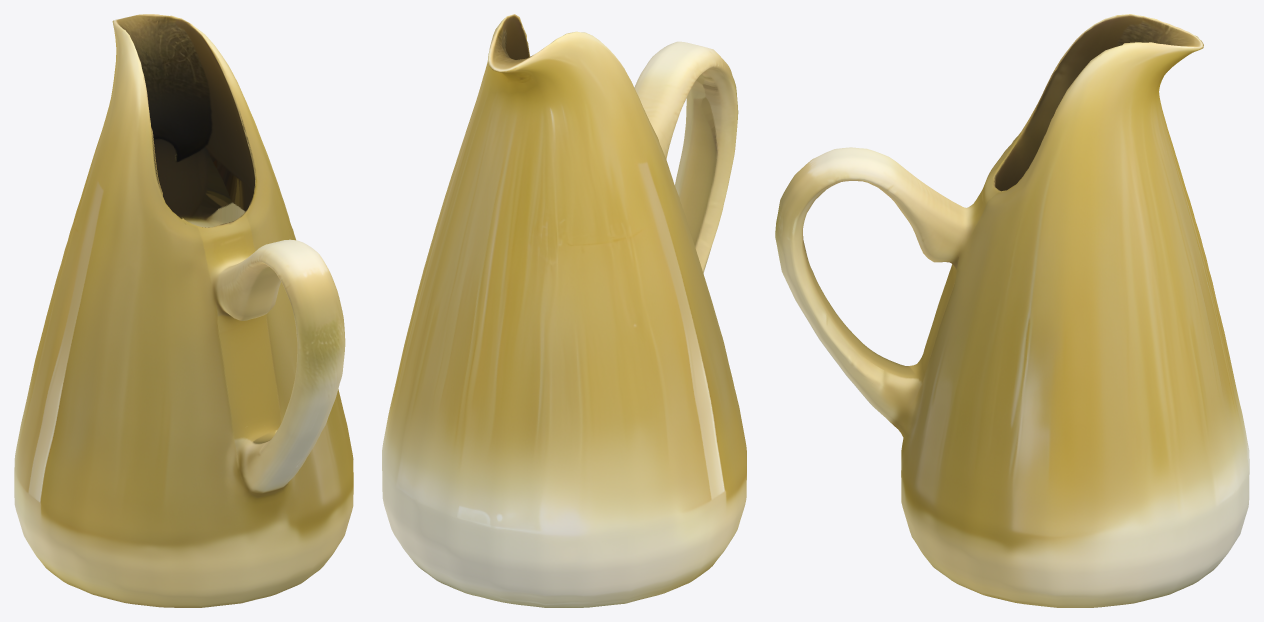
3 views of the same model, side by side, from view 1: azimuth 30°, elevation 25°; view 2: azimuth 150°, elevation 25°; view 3: azimuth 270°, elevation 25° (orthographic). The views are drawn at different scales.
Visible parts, largest first — view 1: model; view 2: model; view 3: model.
Part boxes in pixels (x1=…): model: x1=14, y1=14, x2=353, y2=607; model: x1=382, y1=14, x2=746, y2=607; model: x1=775, y1=14, x2=1249, y2=607.
Bounding box in the file's own units: 1.14 × 1.9 × 1.55.
Materials: 1 (1 with a texture image).
